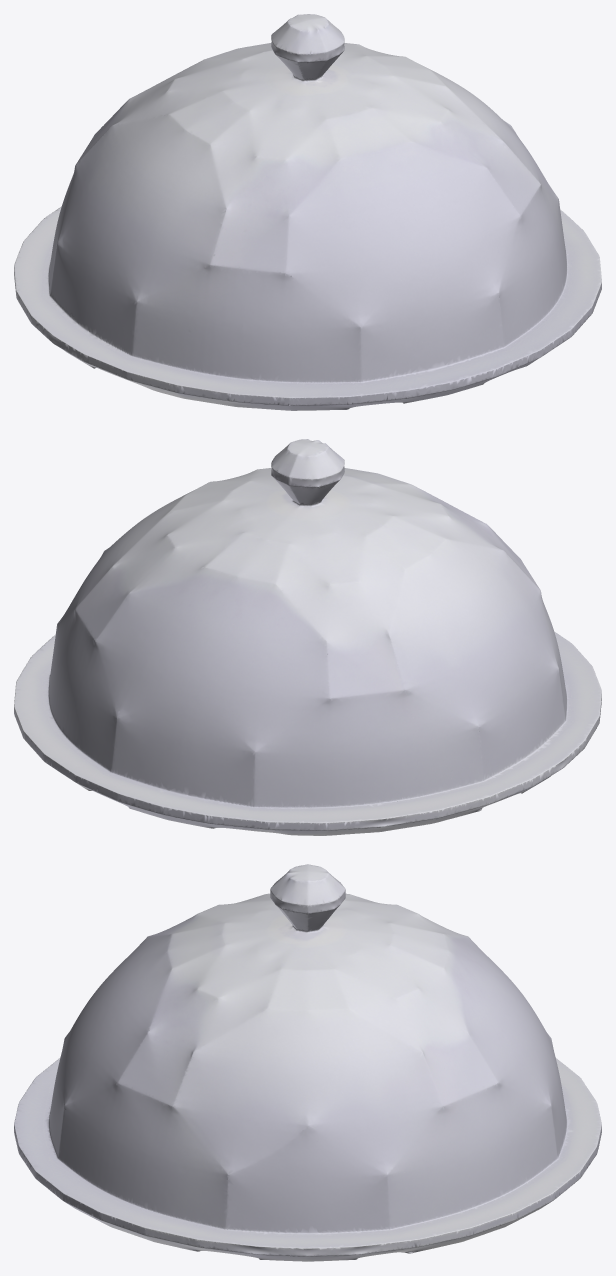
Rendered from accessories_set_5_item_15.glb.
3 views of the same model, one above another, from view 1: azimuth 30°, elevation 25°; view 2: azimuth 150°, elevation 25°; view 3: azimuth 270°, elevation 25° (orthographic).
Size of the model in its own units: 1.9 by 1.06 by 1.9.
1 material, 1 textured.
